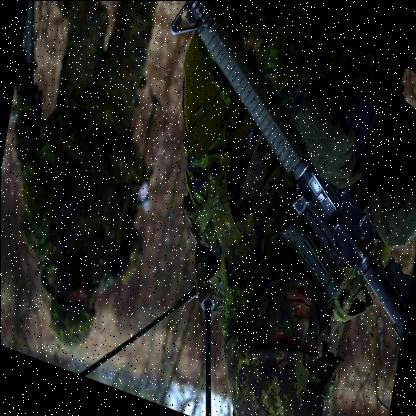rifle: (109, 0, 416, 344)
